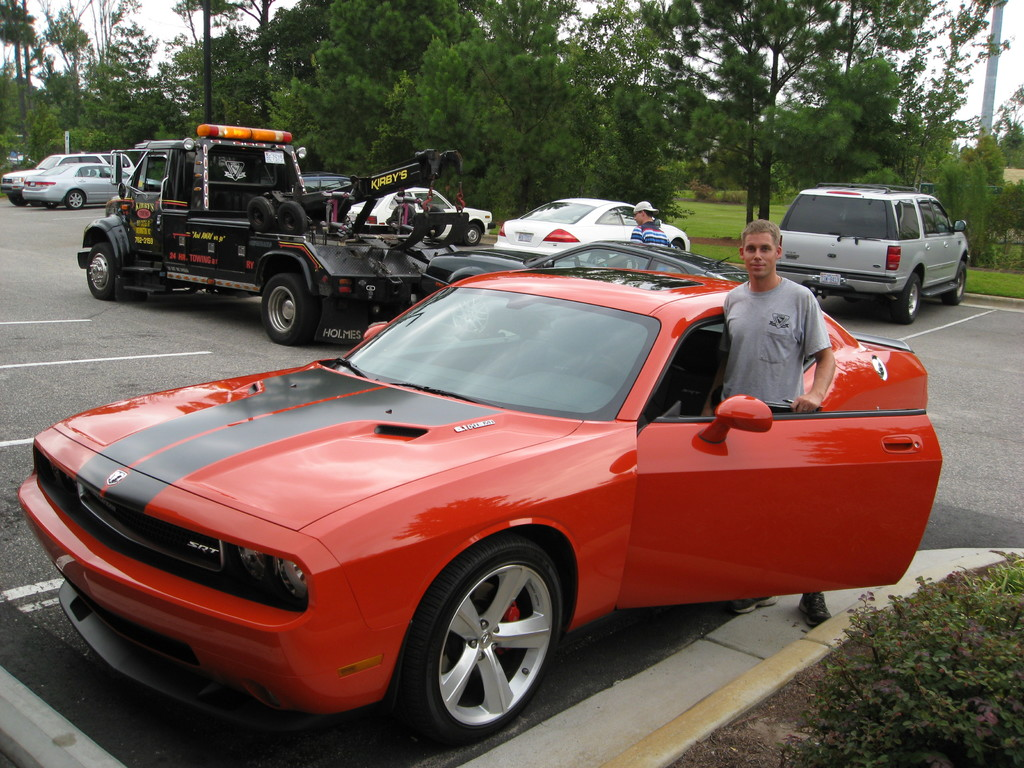Car: (15, 186, 972, 744), (0, 152, 134, 206), (22, 161, 155, 207), (302, 170, 351, 193)
